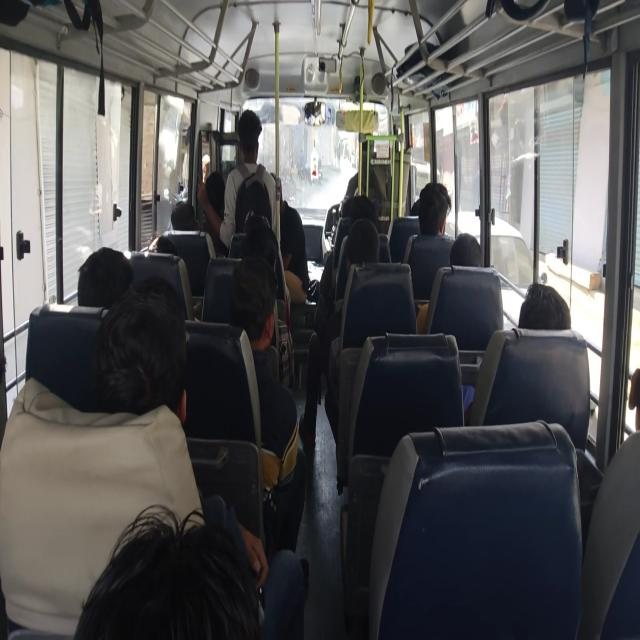person: (74, 306, 248, 498), (92, 533, 248, 640), (503, 278, 588, 368), (273, 164, 304, 330), (210, 270, 262, 368), (344, 184, 406, 262), (72, 241, 128, 315), (441, 231, 496, 285), (350, 220, 387, 290), (228, 230, 270, 290), (416, 171, 448, 248), (175, 178, 203, 240), (145, 225, 174, 278), (238, 122, 264, 179), (622, 364, 640, 417), (238, 208, 263, 244), (207, 169, 230, 208), (412, 188, 433, 222)
